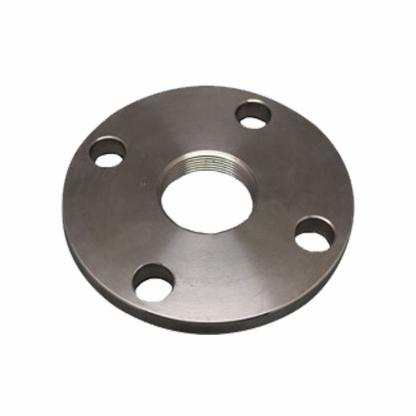FOD: (58, 81, 361, 342)
